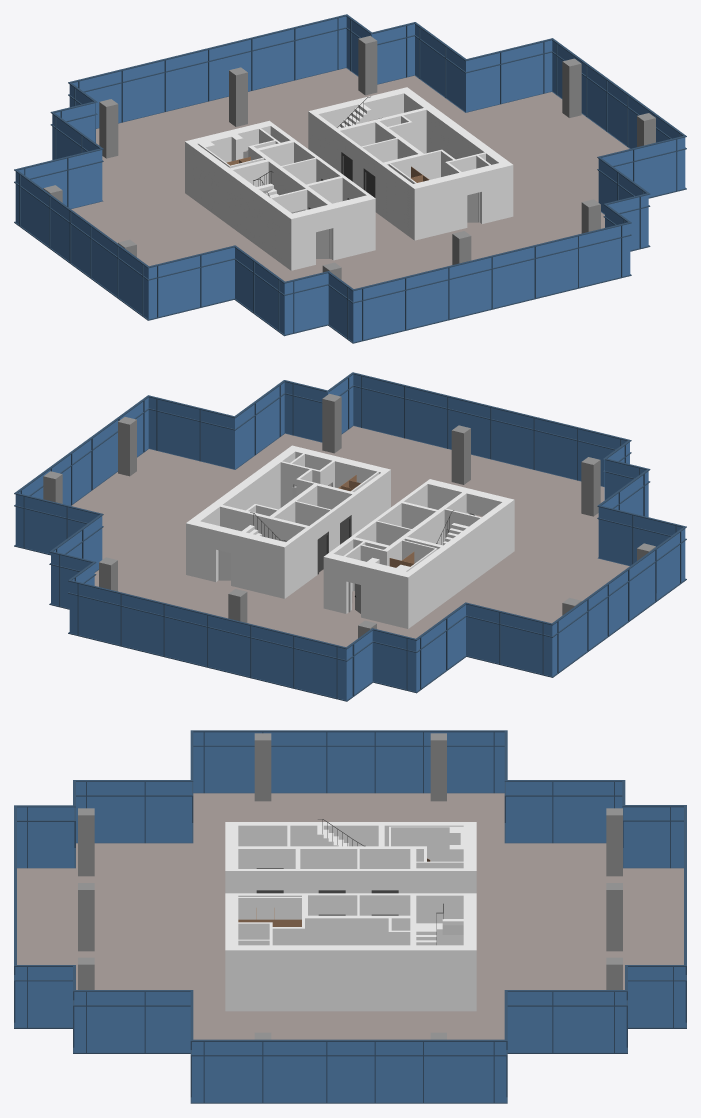
File: Floor plan 26.glb
The picture shows the model from 3 angles, top to bottom: view 1: azimuth 30°, elevation 25°; view 2: azimuth 150°, elevation 25°; view 3: azimuth 270°, elevation 25°; orthographic projection. The views are drawn at different scales.
Parts seen in each view (by area): view 1: Box4840, Box17176; view 2: Box4840, Box17176; view 3: Box4840, Box17176.
Part boxes in pixels (x1=…): Box4840: x1=14, y1=14, x2=686, y2=343; Box17176: x1=185, y1=87, x2=513, y2=270; Box4840: x1=14, y1=372, x2=686, y2=701; Box17176: x1=186, y1=445, x2=514, y2=628; Box4840: x1=14, y1=730, x2=686, y2=1103; Box17176: x1=225, y1=819, x2=476, y2=1011.
Bounding box in the file's own units: 38.04 × 4.42 × 34.81.
